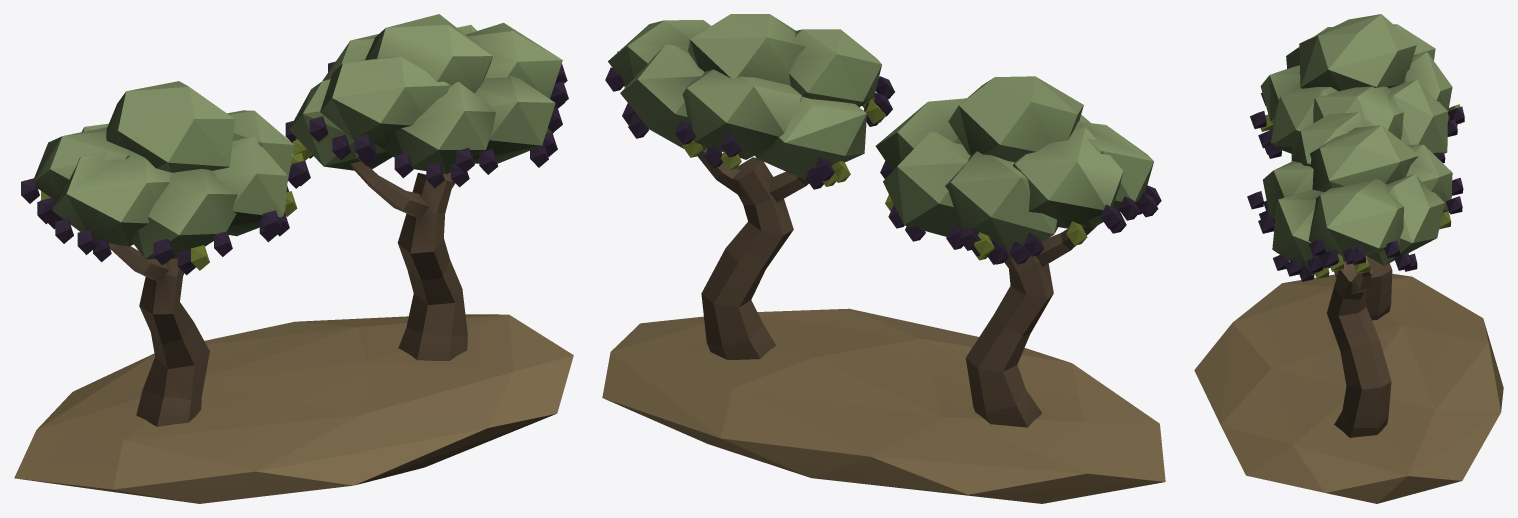
Rendered from olives.glb.
3 views of the same model, side by side, from view 1: azimuth 30°, elevation 25°; view 2: azimuth 150°, elevation 25°; view 3: azimuth 270°, elevation 25° (orthographic). The views are drawn at different scales.
Visible parts, largest first — view 1: base, crown0_m, crown1_m; view 2: base, crown0_m, crown1_m; view 3: base, crown1_m, crown0_m.
Part boxes in pixels (bbox=[...]): base: bbox=[14, 161, 573, 503]; crown0_m: bbox=[21, 81, 310, 275]; crown1_m: bbox=[285, 14, 568, 187]; base: bbox=[602, 148, 1165, 503]; crown0_m: bbox=[875, 76, 1161, 264]; crown1_m: bbox=[605, 14, 894, 189]; base: bbox=[1194, 256, 1503, 503]; crown1_m: bbox=[1247, 112, 1463, 281]; crown0_m: bbox=[1250, 14, 1464, 163].
Size of the model in its own units: 1.68 by 1.11 by 0.9394.
